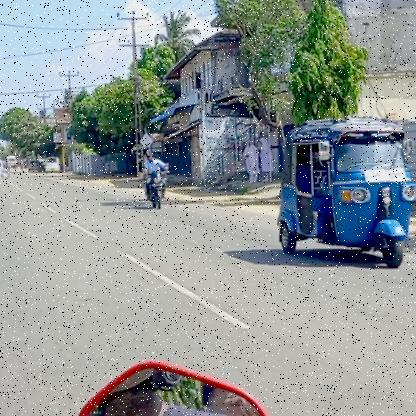motorcycle: (141, 170, 170, 211)
